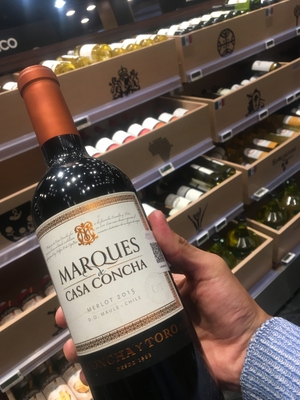marques de casa concha merlot: (18, 73, 201, 400)
